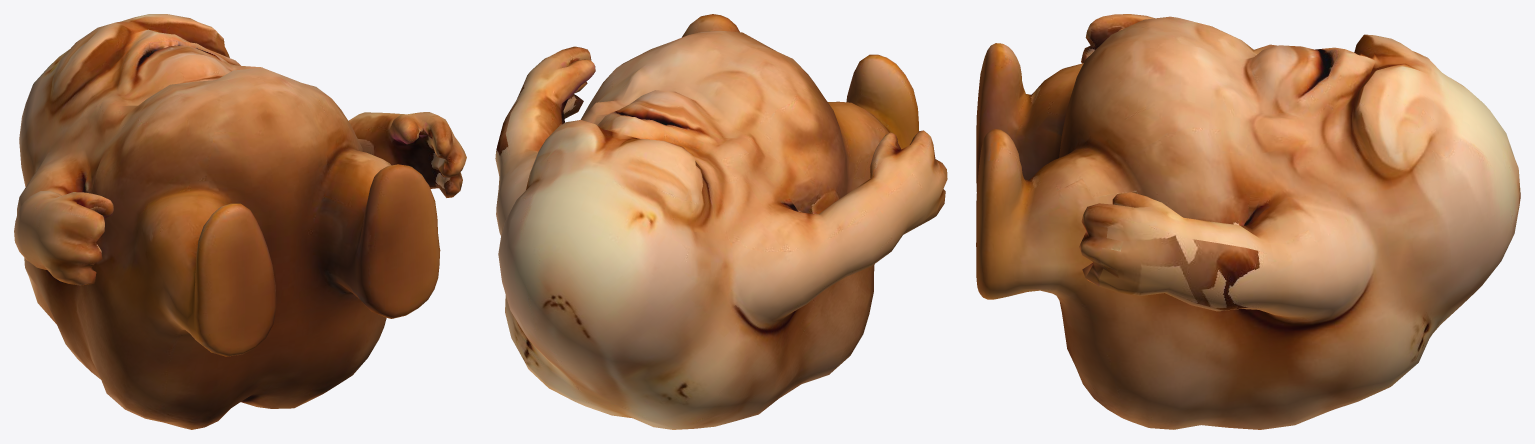
File: Nuppeppo2.glb
3 renders of one model, left to right at view 1: azimuth 30°, elevation 25°; view 2: azimuth 150°, elevation 25°; view 3: azimuth 270°, elevation 25°, orthographic. The views are drawn at different scales.
Parts seen in each view (by area): view 1: Retopo_Nuppeppo2.001; view 2: Retopo_Nuppeppo2.001; view 3: Retopo_Nuppeppo2.001.
Boxes of the visible parts, x1=… form: Retopo_Nuppeppo2.001: x1=14, y1=14, x2=466, y2=429; Retopo_Nuppeppo2.001: x1=495, y1=14, x2=947, y2=429; Retopo_Nuppeppo2.001: x1=976, y1=14, x2=1520, y2=429.
Bounding box in the file's own units: 1.87 × 1.46 × 1.95.
Materials: 1 (1 with a texture image).
